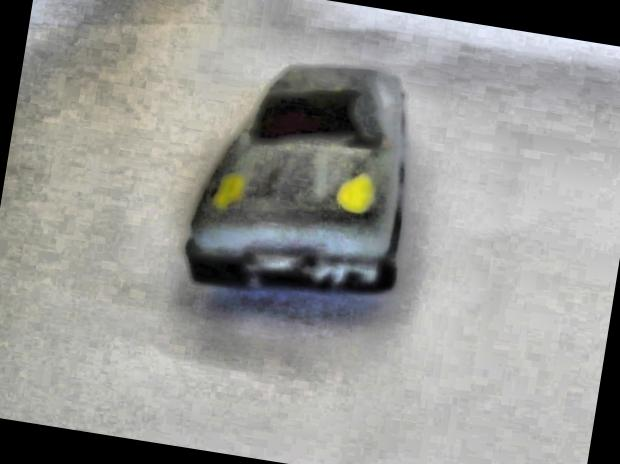normal_car: (185, 66, 406, 290)
